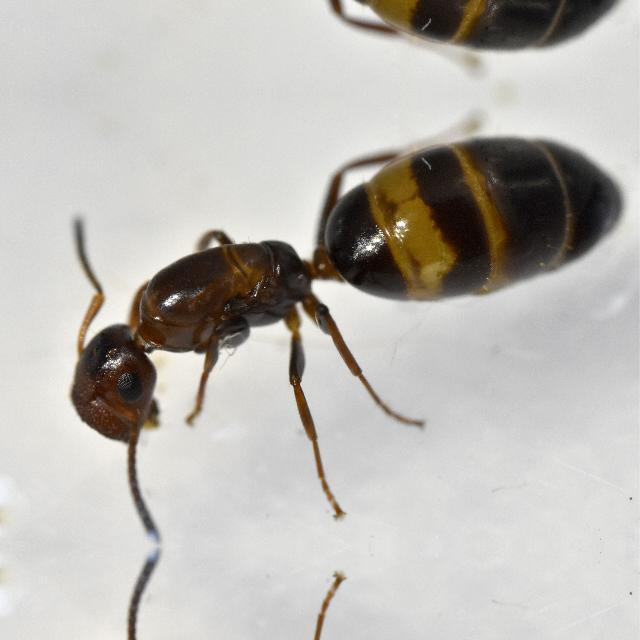Colobopsis: (25, 134, 551, 453)
